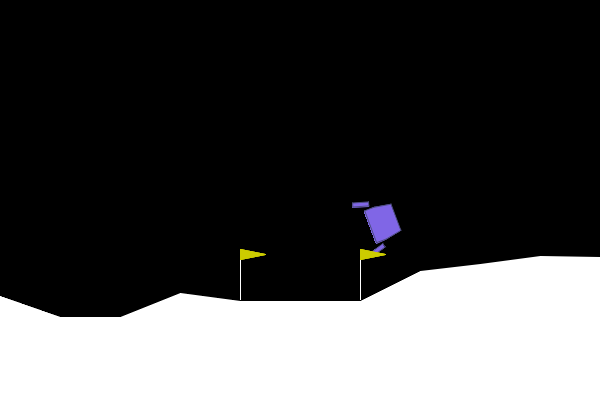lander: (349, 189, 408, 259)
